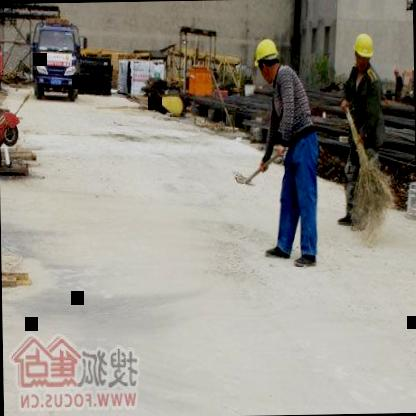helmet: (252, 35, 281, 82), (351, 29, 375, 71)
